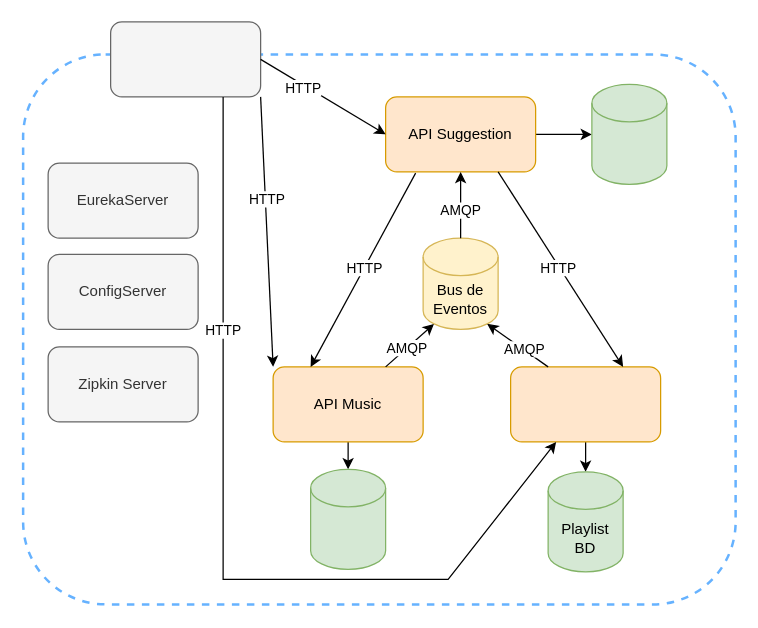
Image size: 758x628. Some labels were removed from this diagram. Here are the shapes that lost their labels. From the top down, the centre of each, then its label:
At point 185,59: "Gateway".
At point 629,133: "Suggestion DB".
At point 585,404: "API Playlist".
At point 347,518: "Music DB".
